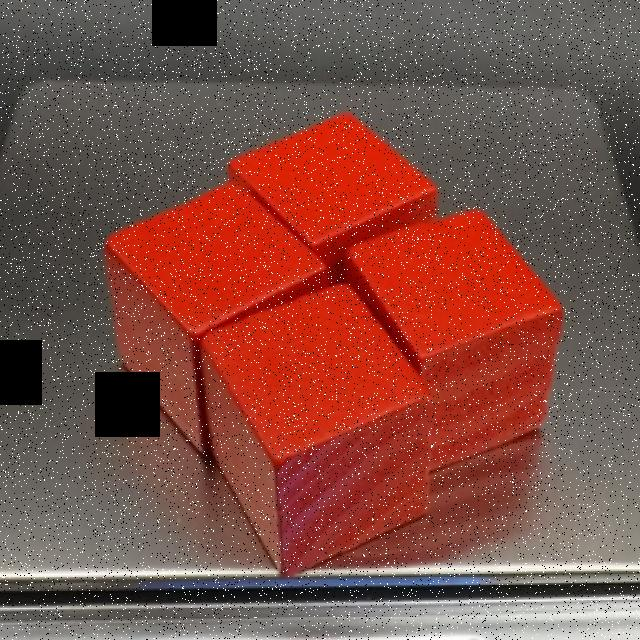red cube: (198, 282, 435, 580), (104, 179, 328, 456), (341, 206, 565, 473), (226, 110, 436, 283)
